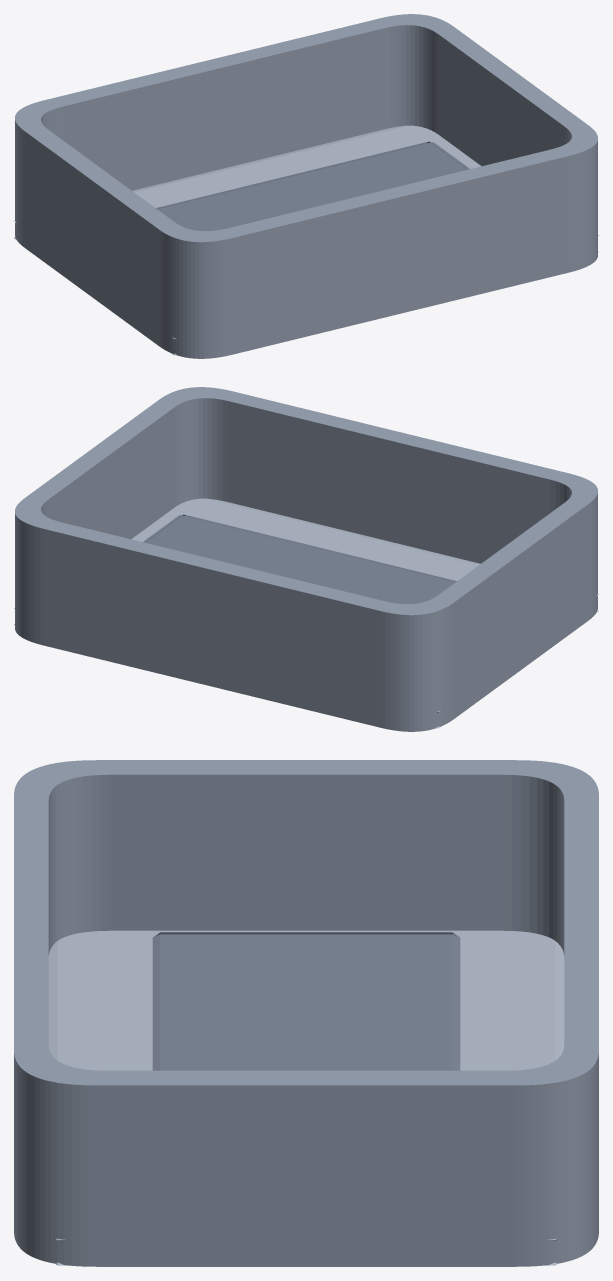
Rendered from litter-tray.glb.
The picture shows the model from 3 angles, top to bottom: view 1: azimuth 30°, elevation 25°; view 2: azimuth 150°, elevation 25°; view 3: azimuth 270°, elevation 25°; orthographic projection. The views are drawn at different scales.
Visible parts, largest first — view 1: body, accent, soft; view 2: body, accent, soft; view 3: body, accent, soft.
Boxes of the visible parts, bbox=[...] form: body: bbox=[15, 14, 597, 358]; accent: bbox=[156, 141, 469, 230]; soft: bbox=[14, 125, 598, 355]; body: bbox=[15, 387, 597, 731]; accent: bbox=[143, 514, 456, 603]; soft: bbox=[14, 498, 598, 728]; body: bbox=[14, 760, 598, 1266]; accent: bbox=[152, 932, 460, 1070]; soft: bbox=[48, 930, 564, 1265].
Bounding box in the file's own units: 0.5 × 0.1302 × 0.38.
